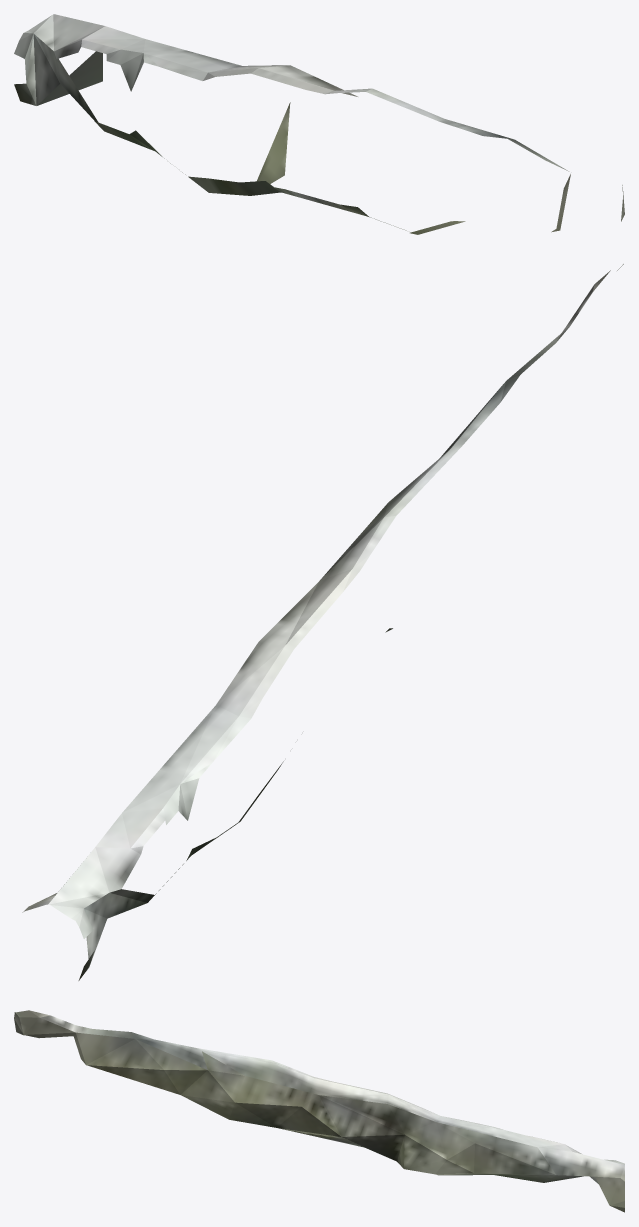
The picture shows the model from 3 angles, top to bottom: view 1: azimuth 30°, elevation 25°; view 2: azimuth 150°, elevation 25°; view 3: azimuth 270°, elevation 25°; orthographic projection. The views are drawn at different scales.
Size of the model in its own units: 0.1009 by 0.4512 by 1.35.
Materials: 1 (1 with a texture image).
